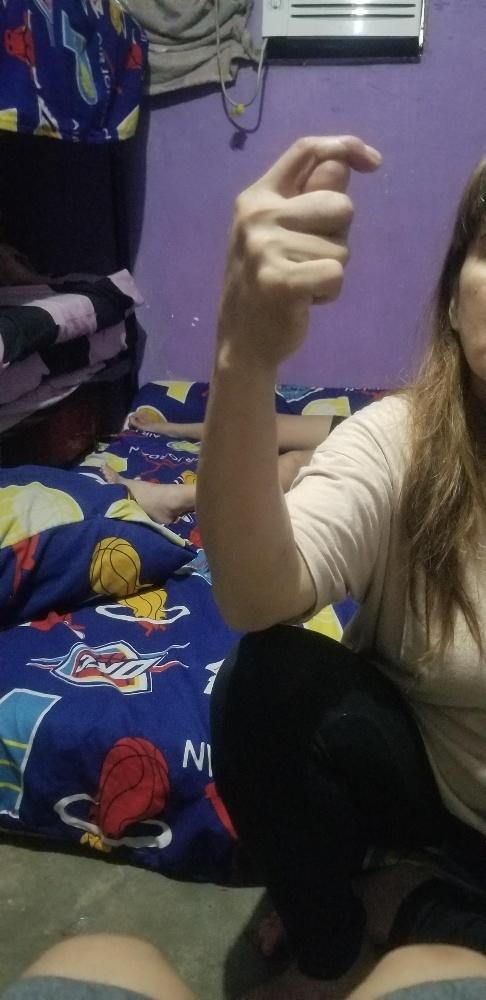t: (227, 130, 381, 360)
